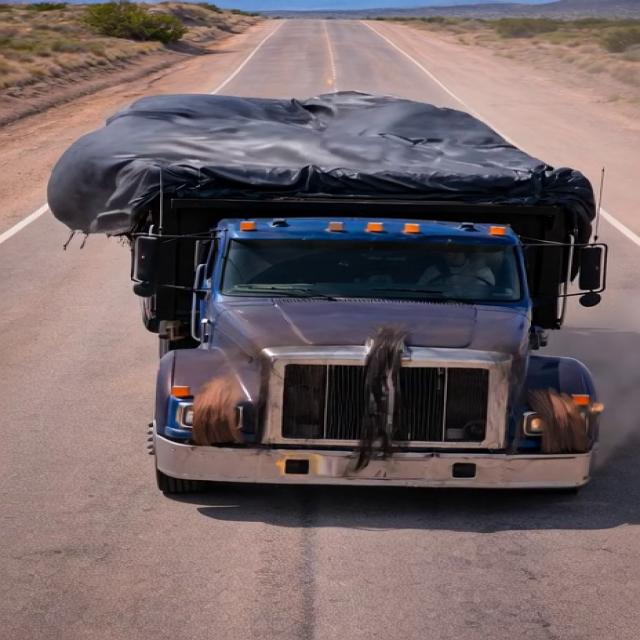trailer: (98, 94, 592, 207)
truck: (47, 65, 613, 505)
